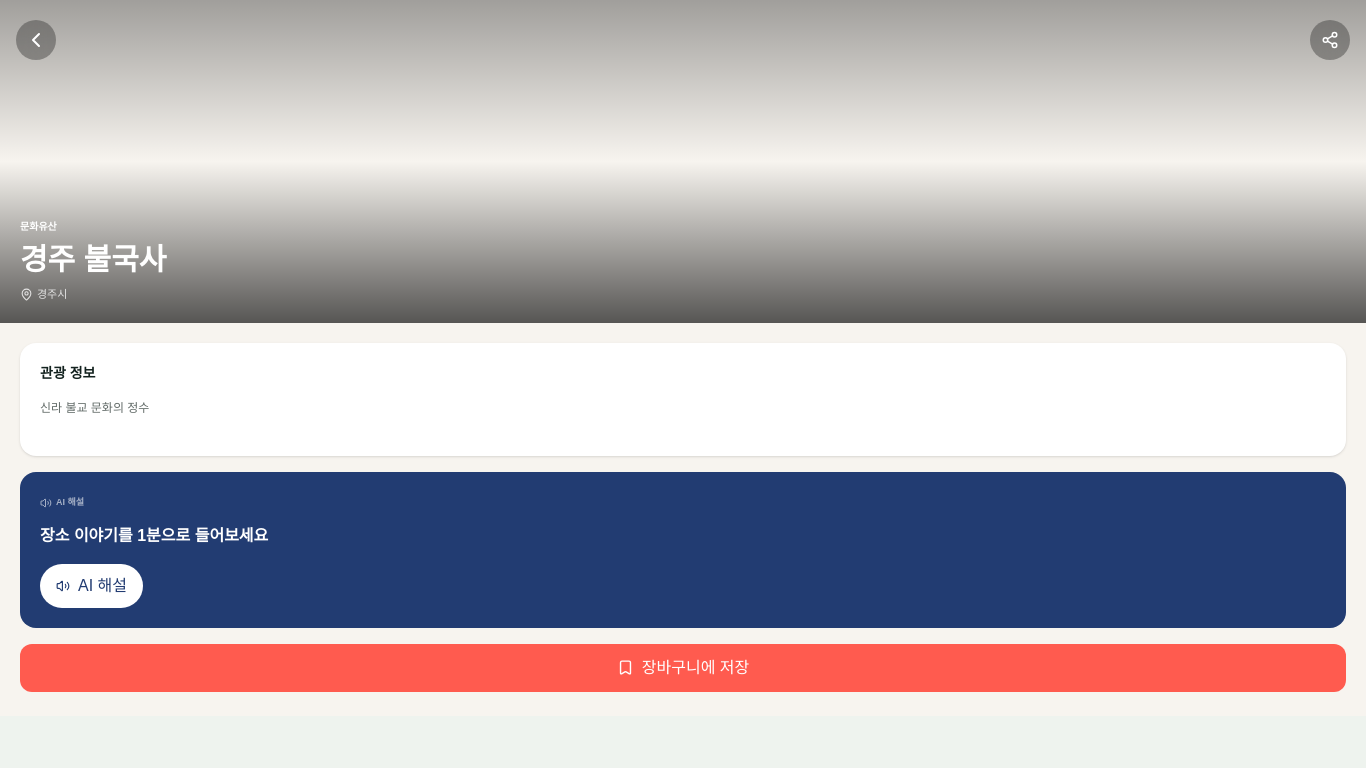
Test case: place narration playback › reads the narration with the device voice when the server has no audio
This screenshot has width=1366, height=768.
Click the button "AI 해설" at point(92, 586), box top-left (40, 564), bottom-right (143, 608)
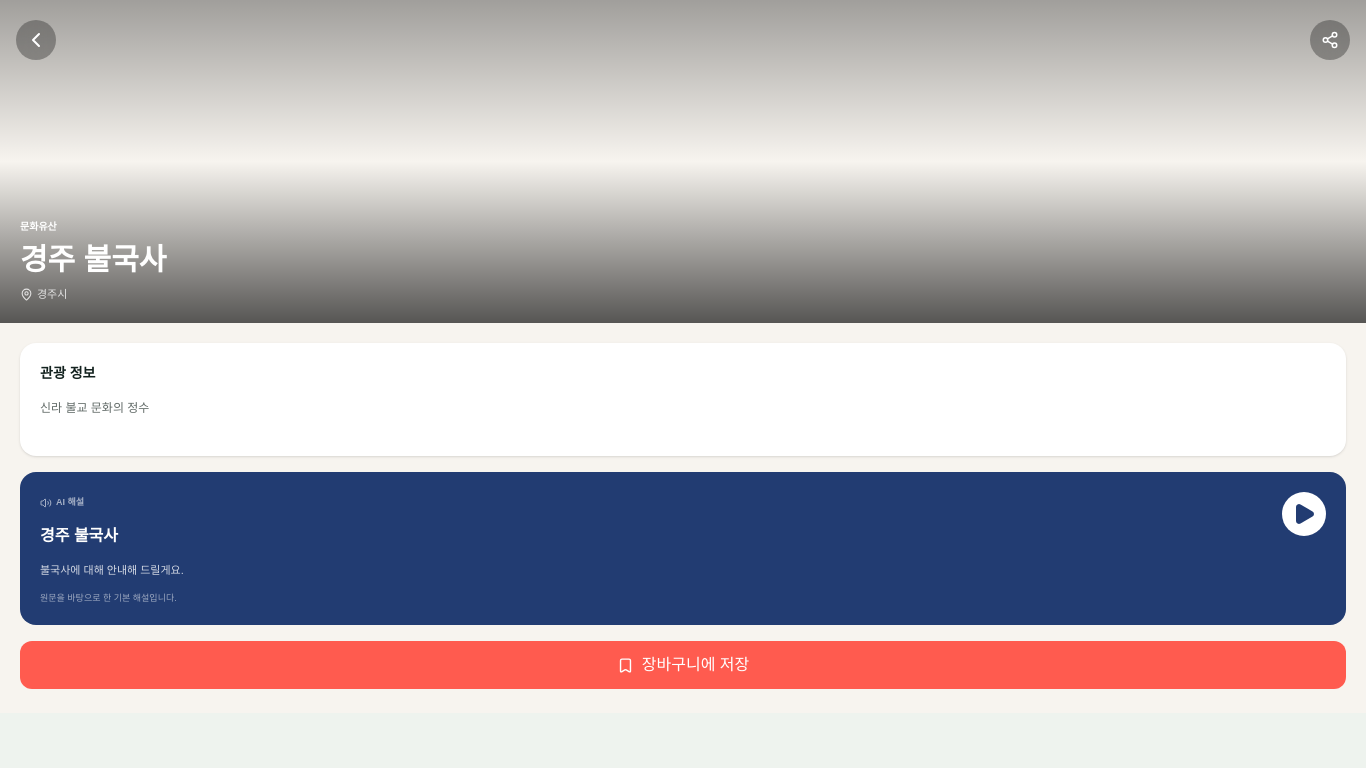
Click the button named "음성 듣기" at point(1304, 514), box top-left (1282, 492), bottom-right (1326, 536)
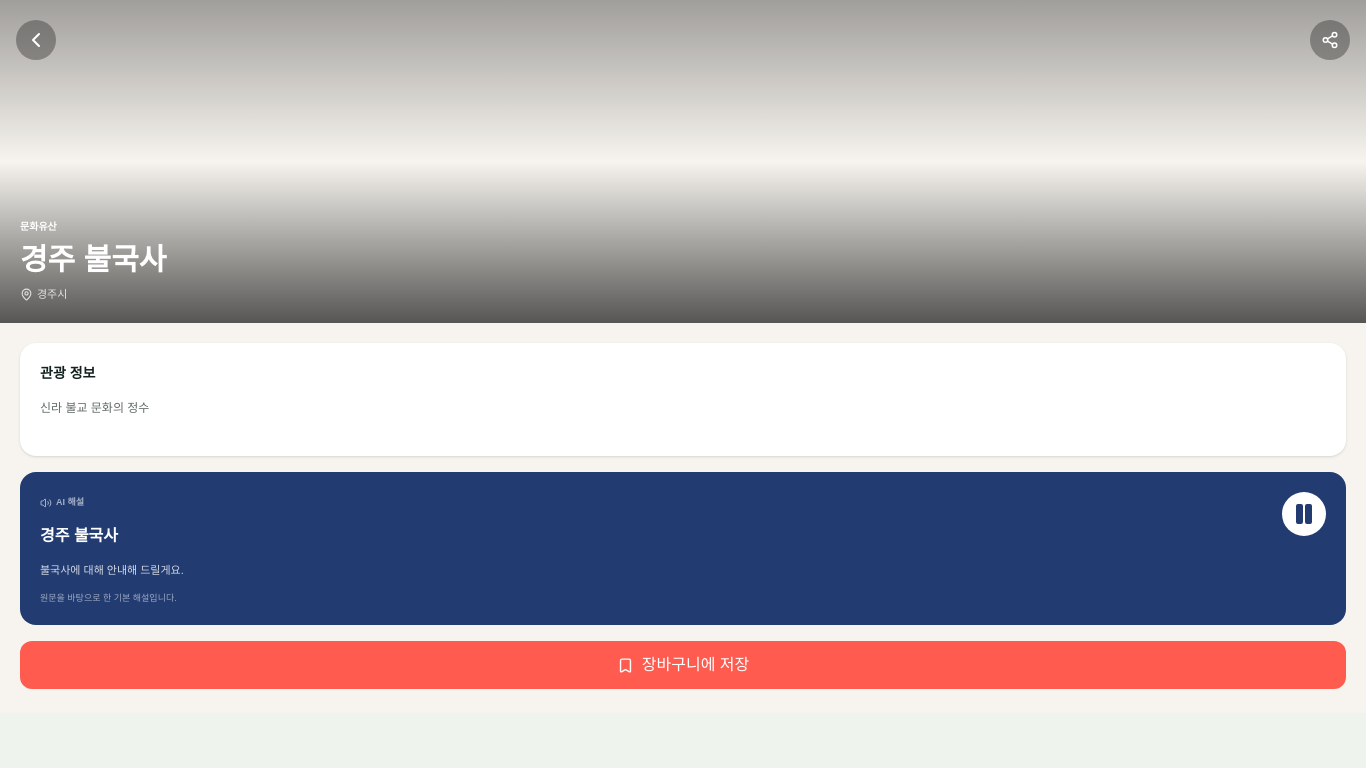
Check: the button named "일시정지" is shown, box top-left (1282, 492), bottom-right (1326, 536)
